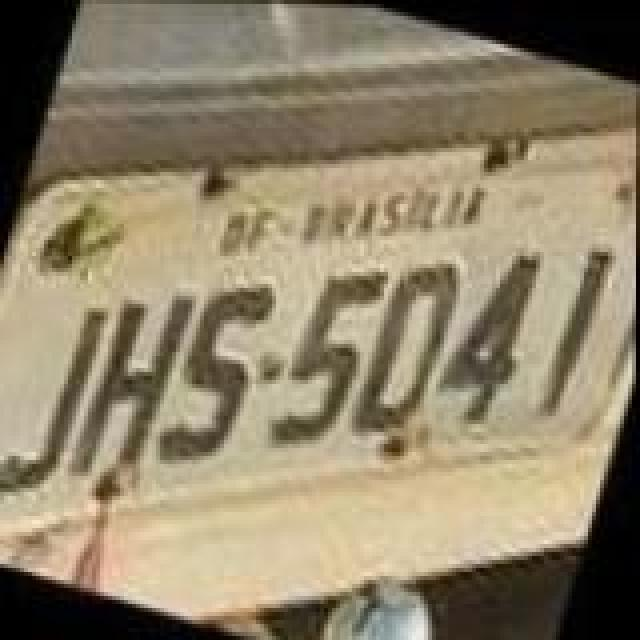1: (528, 234, 616, 430)
4: (428, 234, 556, 430)
5: (254, 244, 390, 464)
H: (62, 272, 198, 500)
J: (0, 284, 108, 508)
O: (338, 240, 470, 452)
S: (148, 262, 288, 486)
